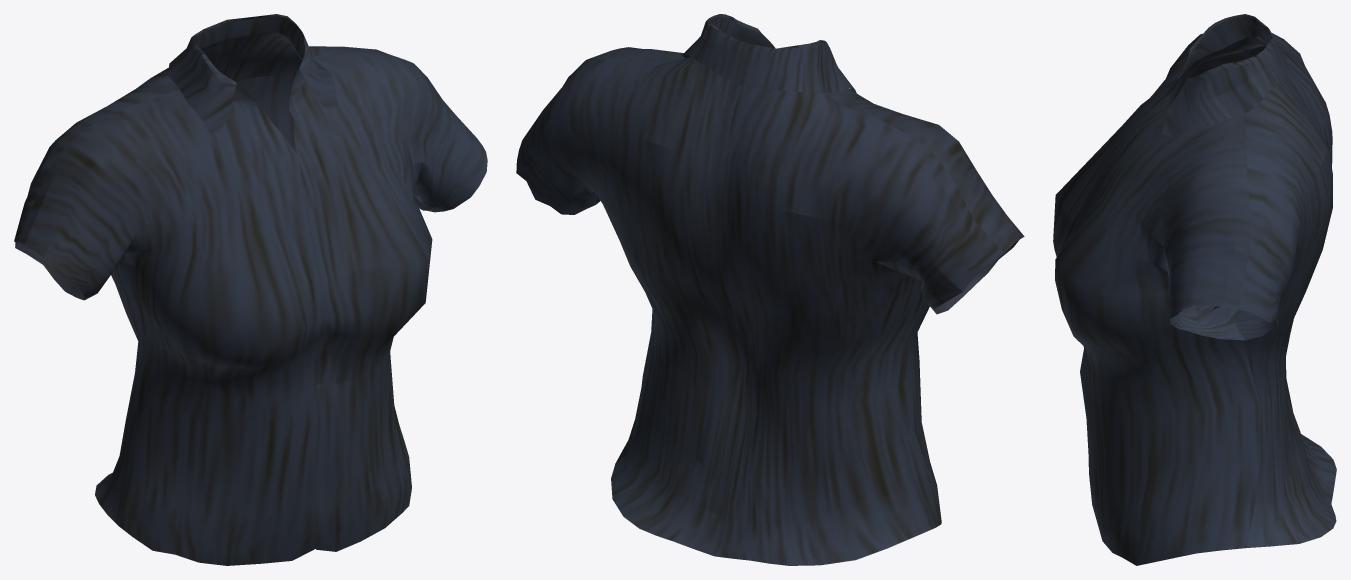
The model's file is SS_XLF.dae.
The picture shows the model from 3 angles, left to right: view 1: azimuth 30°, elevation 25°; view 2: azimuth 150°, elevation 25°; view 3: azimuth 270°, elevation 25°; orthographic projection. The views are drawn at different scales.
Parts seen in each view (by area): view 1: SS; view 2: SS; view 3: SS.
Part boxes in pixels (x1,y1,x2,y2): SS: (14, 14, 487, 565); SS: (516, 14, 1024, 565); SS: (1053, 14, 1336, 565).
Bounding box in the file's own units: 5.31 × 5.37 × 2.85.
